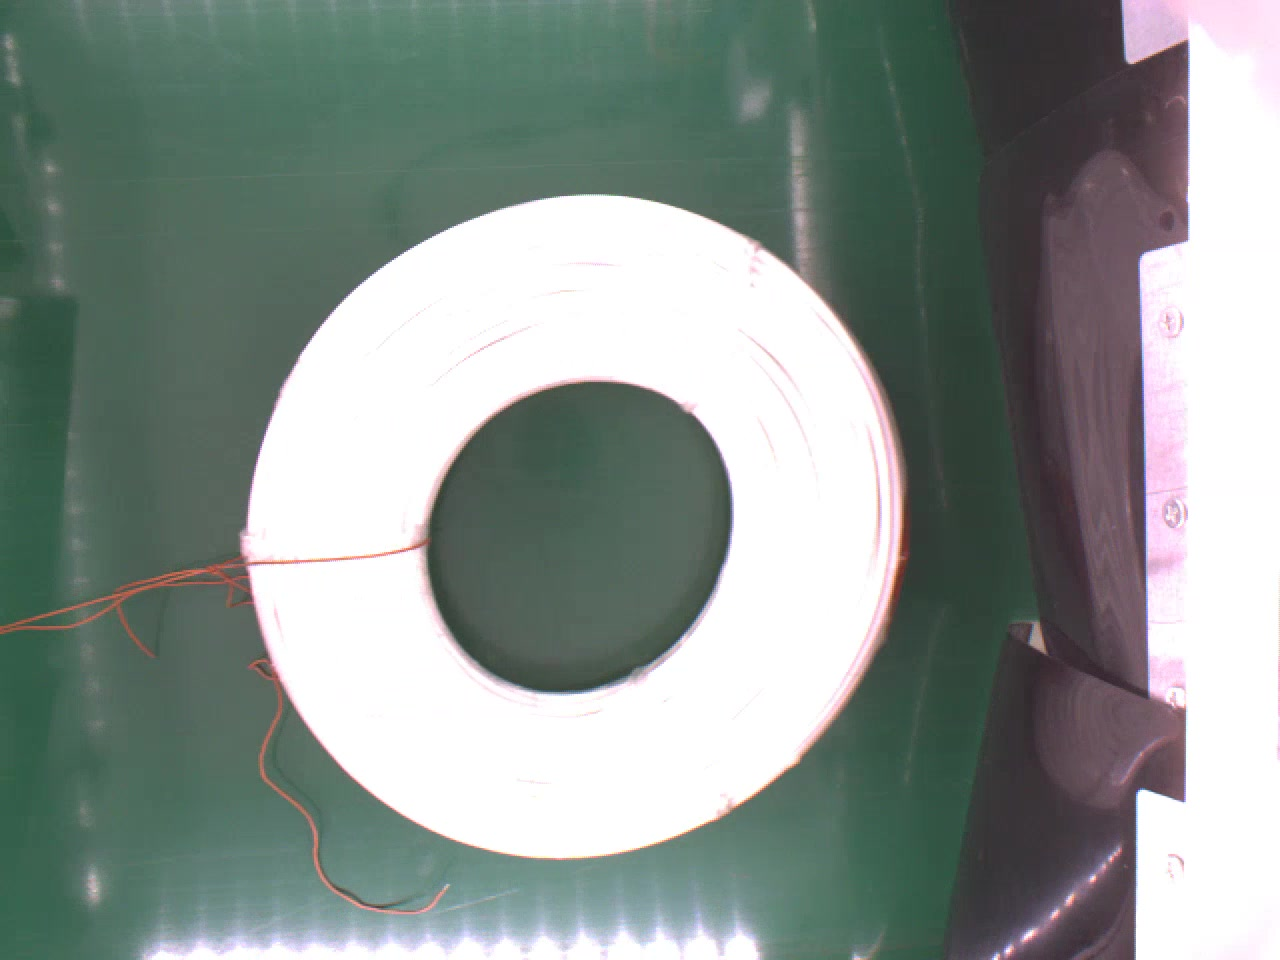white: (240, 192, 918, 863)
